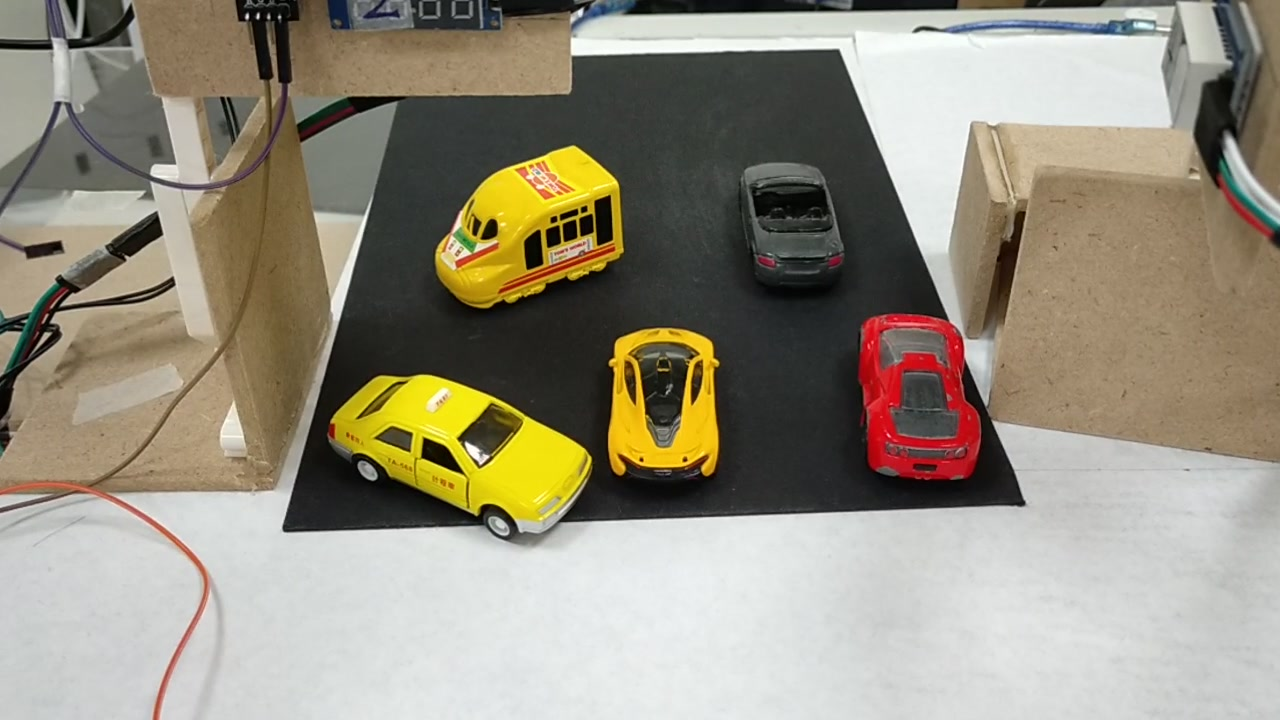car: (328, 367, 593, 536), (855, 300, 984, 484), (610, 330, 722, 486), (739, 164, 847, 293)
